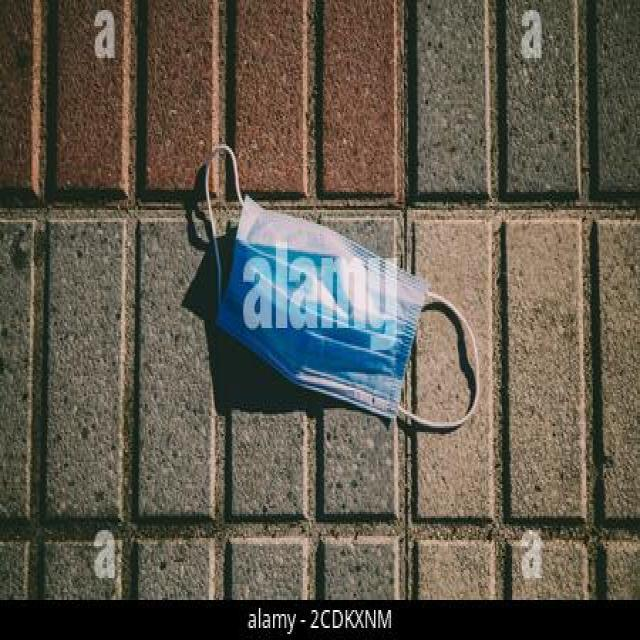face mask: (199, 142, 479, 430)
